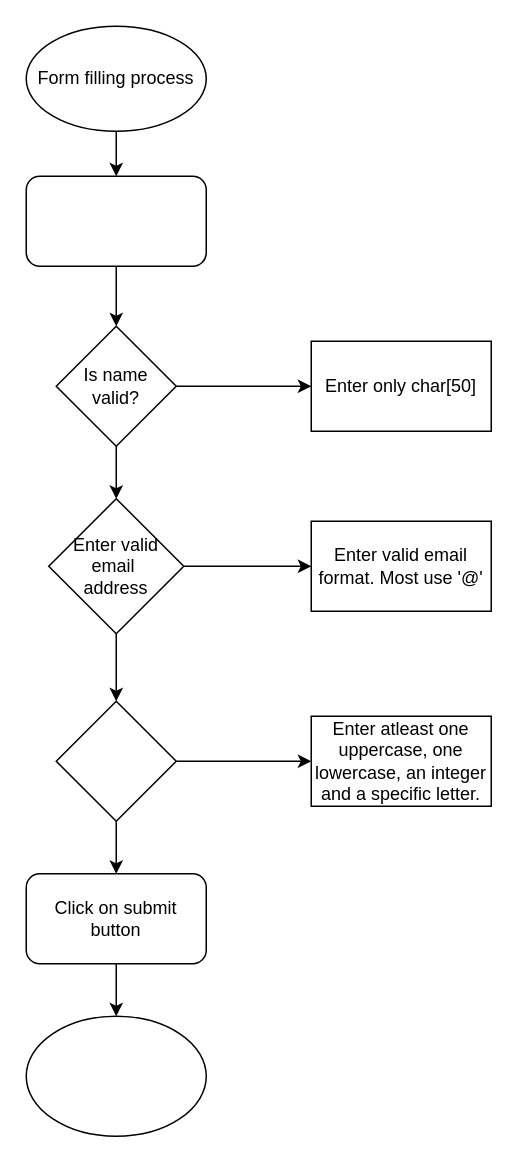
Image size: 518x1163. Some labels were removed from this diagram. The shapes that lost their labels are listed below. From the top down, each one's box as (x1, y1, x2, y2) in pixels, then its label:
(25, 175, 206, 266): Enter your name
(55, 700, 176, 821): Enter valid password
(25, 1015, 206, 1136): Process completed
